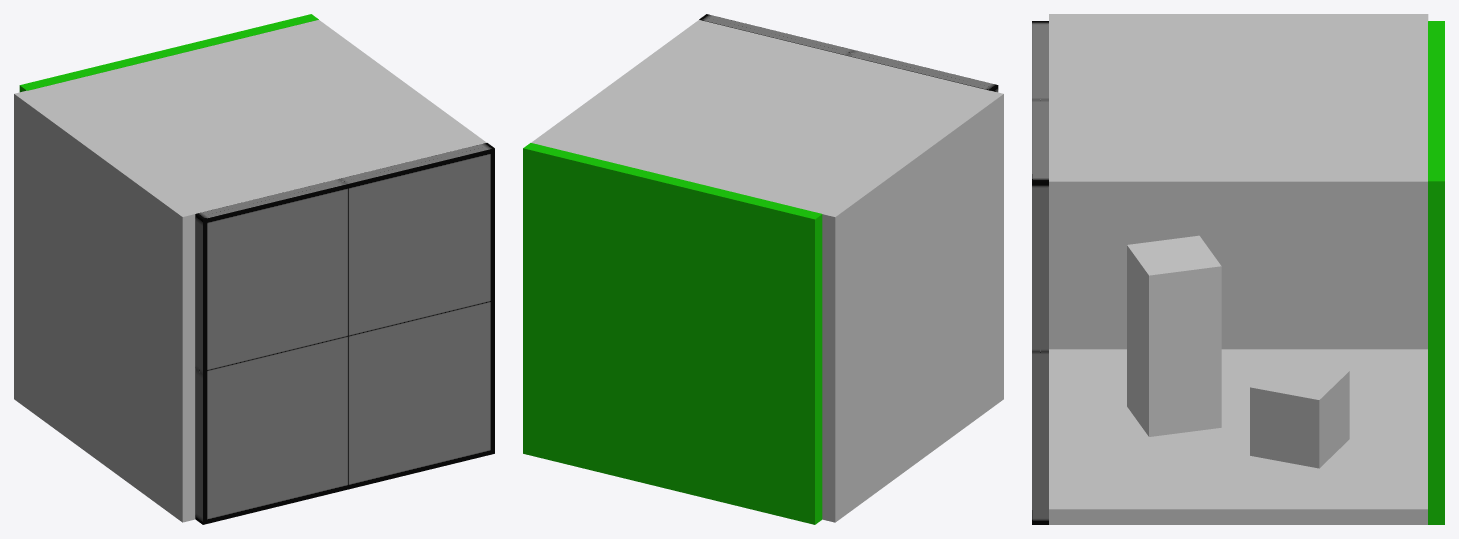
3 renders of one model, left to right at view 1: azimuth 30°, elevation 25°; view 2: azimuth 150°, elevation 25°; view 3: azimuth 270°, elevation 25°, orthographic. The views are drawn at different scales.
Parts seen in each view (by area): view 1: CornellRedWall, CornellBackWall, CornellCeiling, CornellGreenWall; view 2: CornellGreenWall, CornellBackWall, CornellCeiling, CornellRedWall; view 3: CornellCeiling, CornellBackWall, CornellFloor, CornellTallBox, CornellShortBox, CornellGreenWall, CornellRedWall.
Part boxes in pixels (left/top/right/bottom): CornellRedWall: left=195, top=143, right=494, bottom=524; CornellBackWall: left=14, top=90, right=195, bottom=522; CornellCeiling: left=28, top=20, right=486, bottom=213; CornellGreenWall: left=19, top=14, right=318, bottom=92; CornellGreenWall: left=523, top=143, right=822, bottom=524; CornellBackWall: left=822, top=91, right=1003, bottom=522; CornellCeiling: left=531, top=20, right=989, bottom=213; CornellRedWall: left=699, top=14, right=998, bottom=92; CornellCeiling: left=1049, top=21, right=1427, bottom=196; CornellBackWall: left=1049, top=14, right=1428, bottom=349; CornellFloor: left=1049, top=349, right=1427, bottom=524; CornellTallBox: left=1127, top=235, right=1221, bottom=436; CornellShortBox: left=1250, top=358, right=1349, bottom=468; CornellGreenWall: left=1428, top=21, right=1444, bottom=524; CornellRedWall: left=1032, top=21, right=1048, bottom=524.
Bounding box in the file's own units: 1044 × 1000 × 1088.
